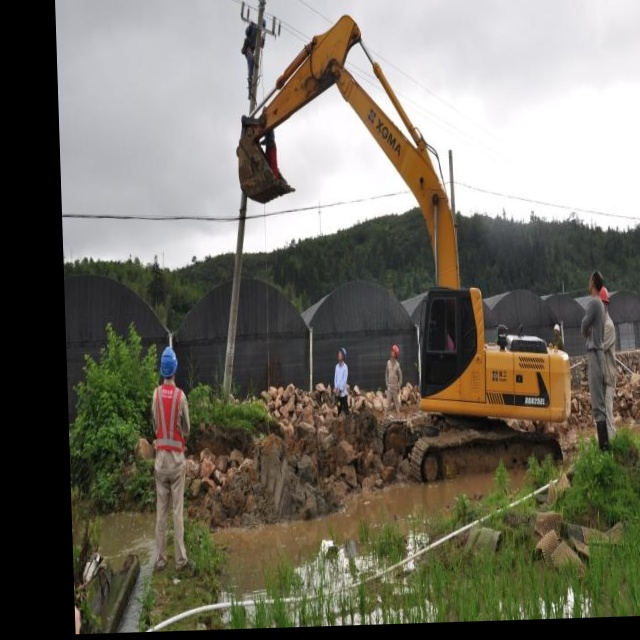Con_Casco: (160, 346, 178, 381)
Con_Chaleco: (154, 381, 187, 460)
Sin_Casco_Mascarrilla: (587, 270, 604, 299)
Sin_Chaleco: (584, 298, 606, 348)
